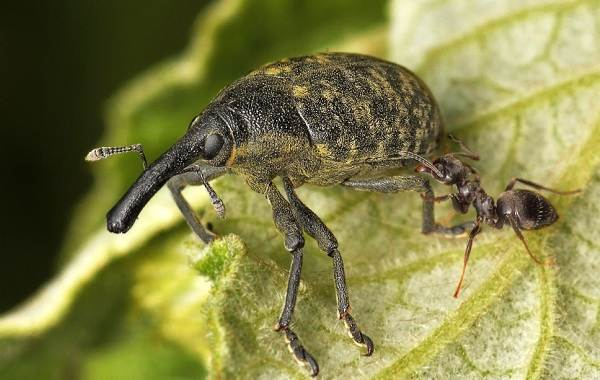dolgonosik: (80, 54, 465, 376)
